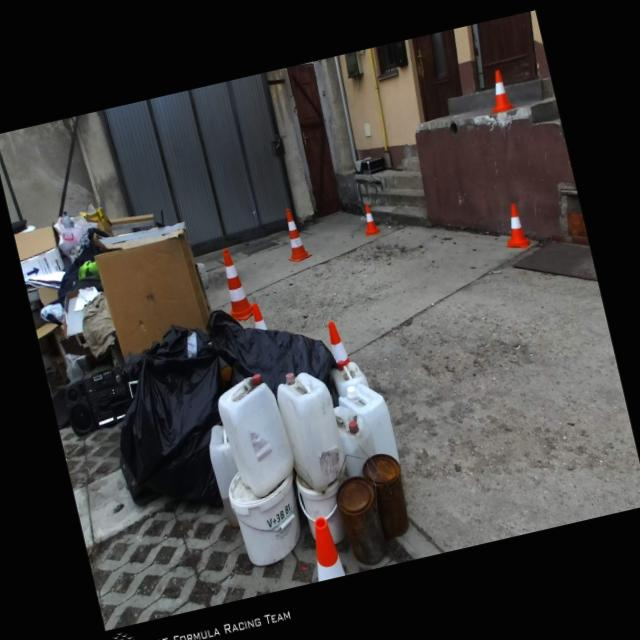large_orange_cone: (217, 245, 254, 322), (304, 514, 346, 580), (277, 204, 311, 263), (323, 318, 351, 366)
orange_cone: (497, 201, 531, 252), (481, 68, 514, 114), (358, 203, 379, 237)
